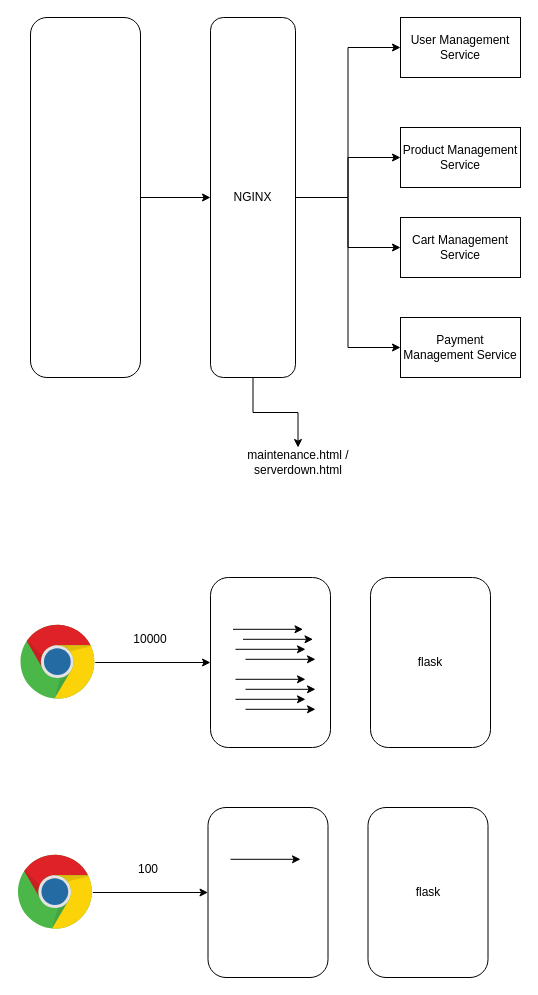
The diagram is 538 pixels wide and 995 high, and some of its shapes have lost their labels. The shapes that lost their labels are listed below. From the top down, each one's centre as x and y in pixels, then its label:
the point at 85,197: Flipkart.com
the point at 270,662: uWSGI
the point at 267,892: Development WSGI
